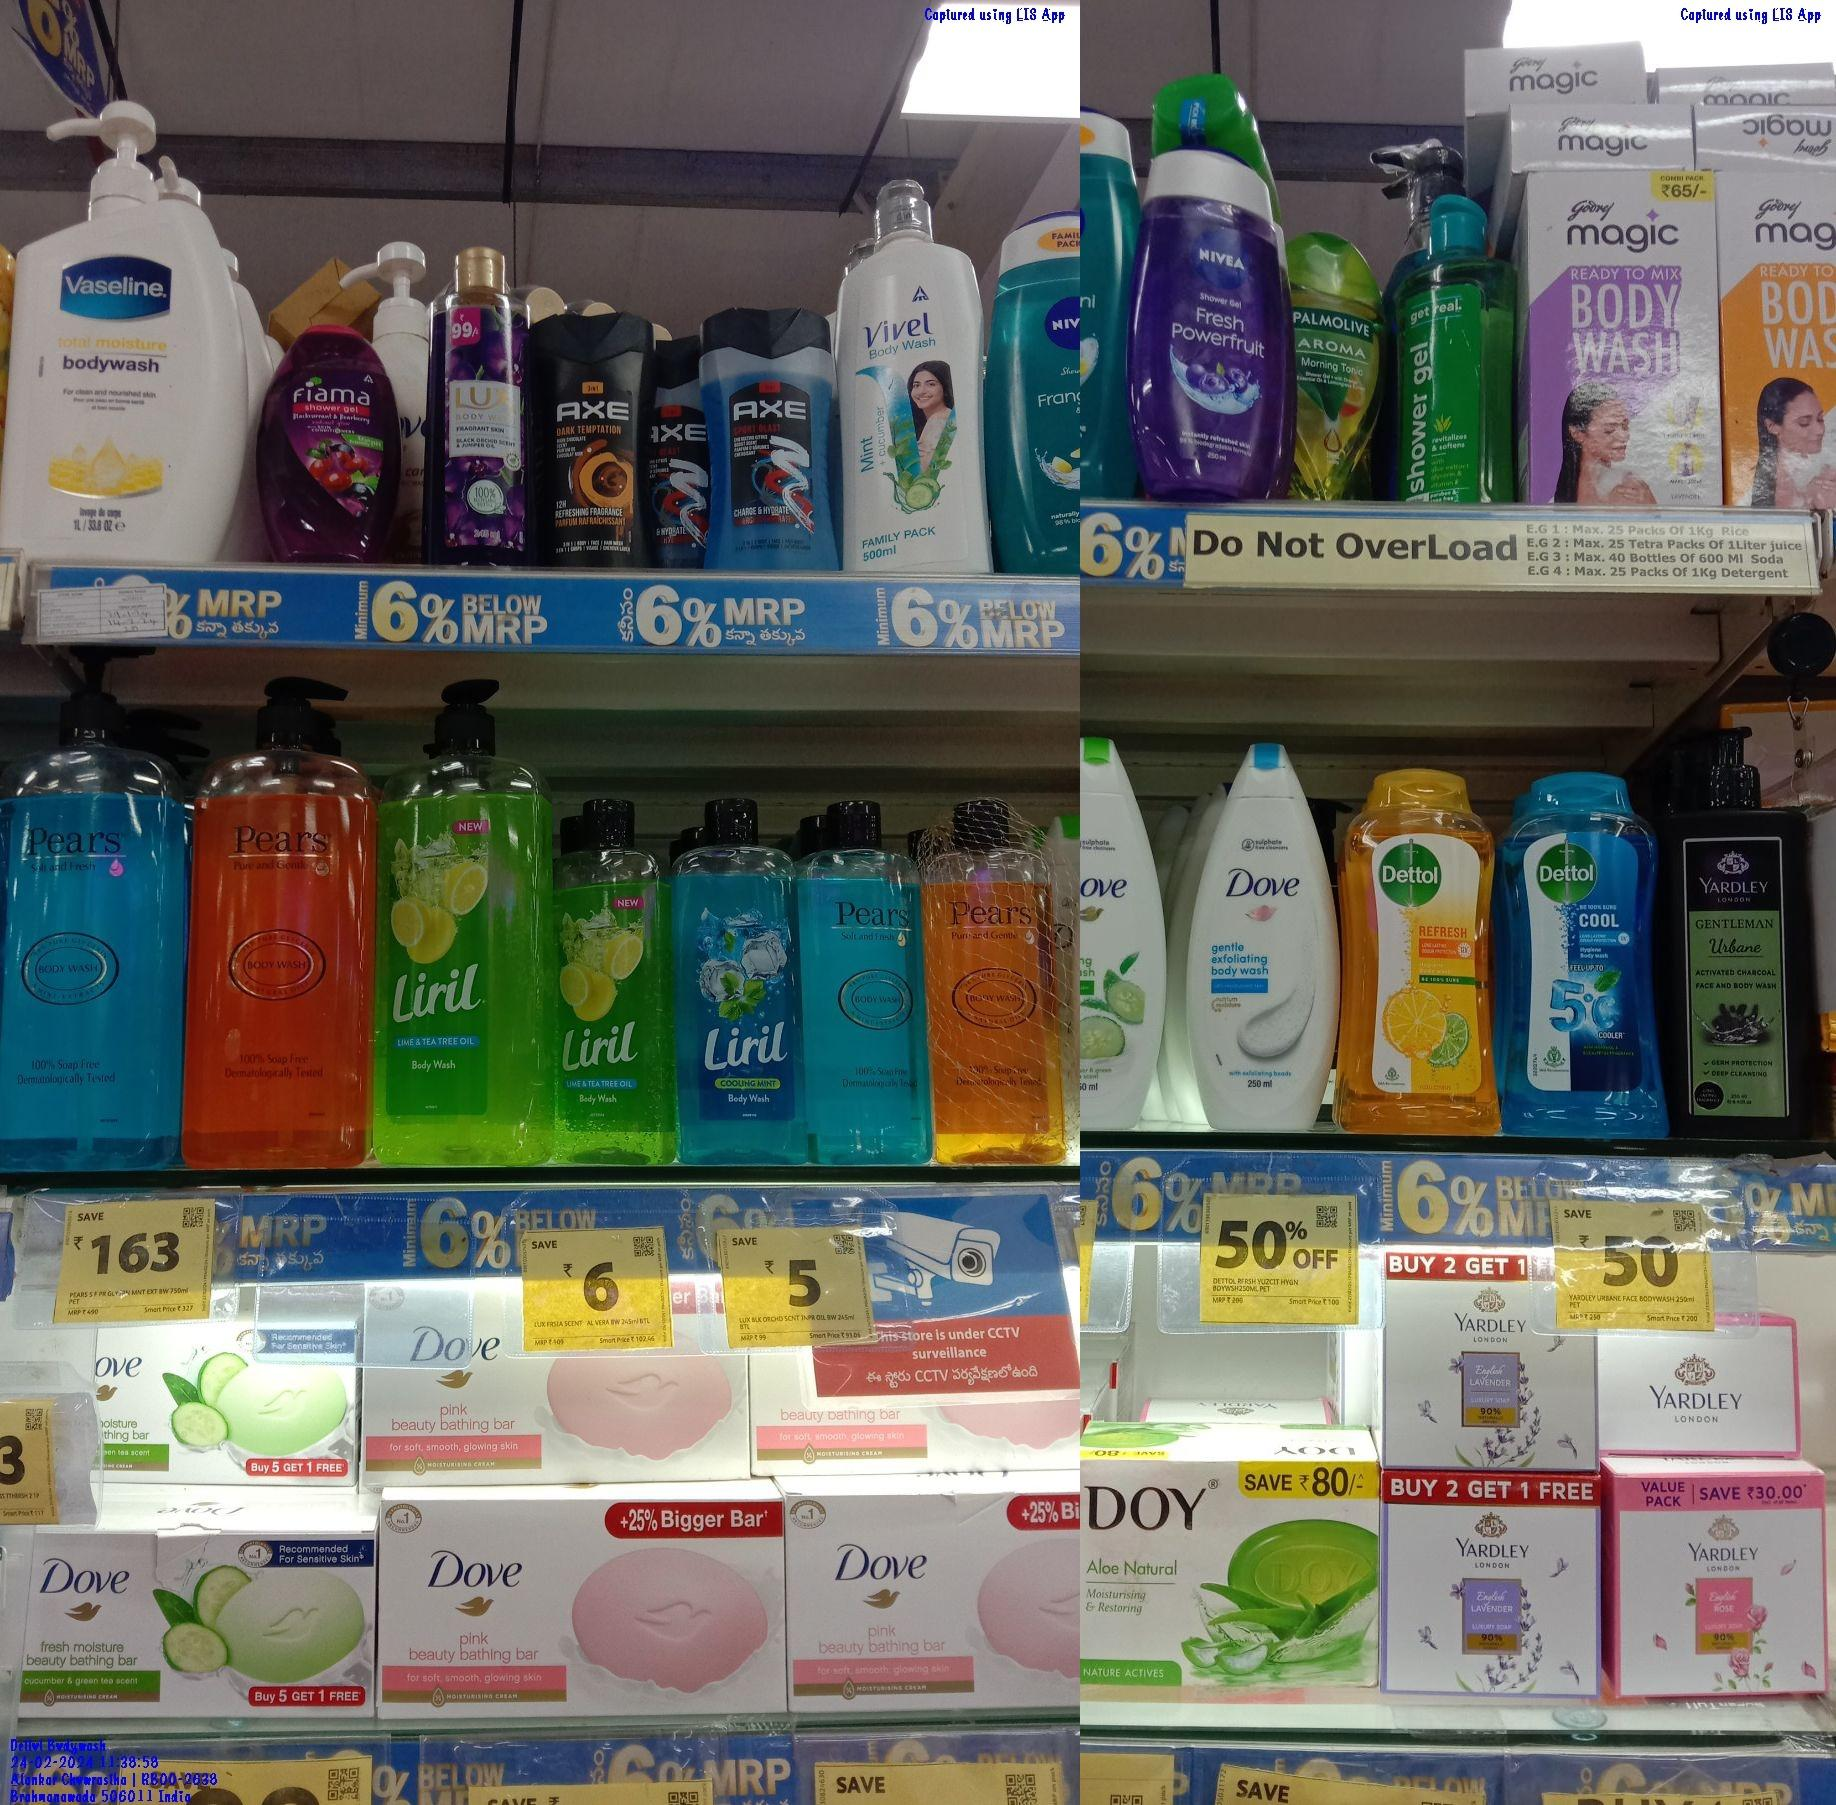Dettol_Bodywash_Cool: (1505, 772, 1671, 1142)
Dettol_Bodywash_Refresh: (1347, 765, 1502, 1136)
Dove_Gentle_Exfoliating_Body_Wash_250ML: (1185, 737, 1339, 1134)
Lux_Black_Orchid_Scent_and_Juniper_Oil_Body_Wash_245ML: (436, 240, 532, 562)
Nivea_Shower_Gel_Fresh_Powerfruit_250ML: (1125, 147, 1286, 499)
